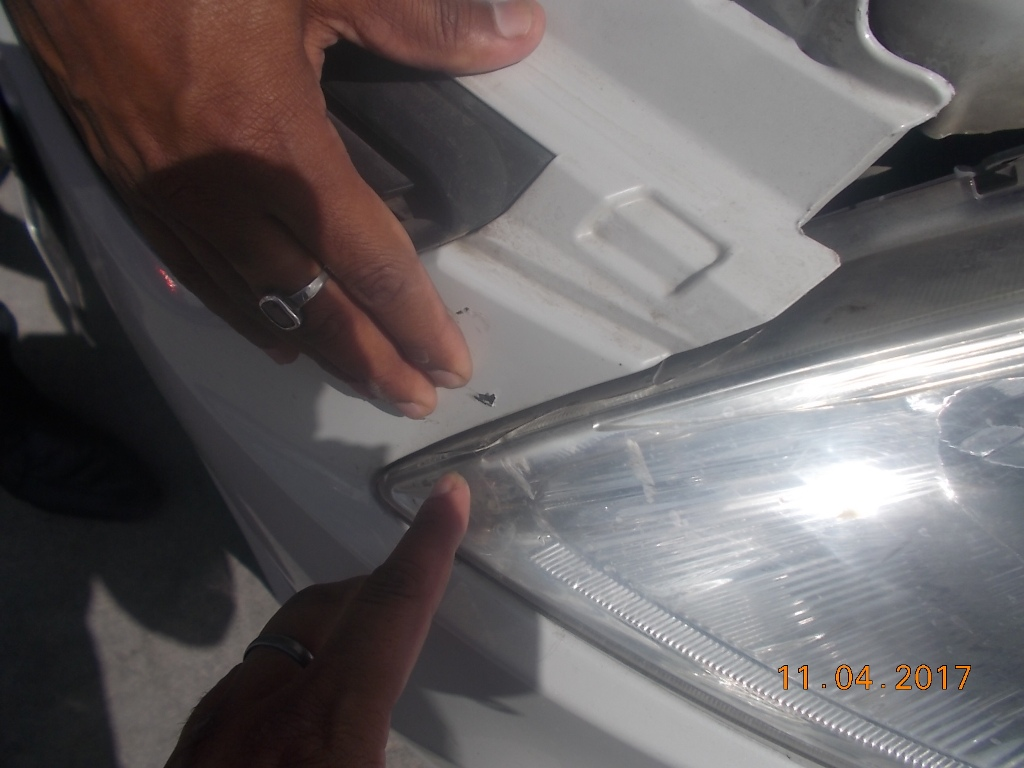Scratch_or_spot: (471, 379, 502, 417)
